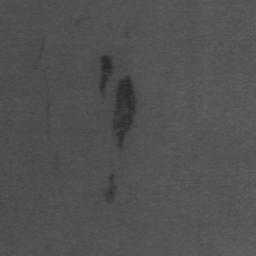Iron scale compression: (112, 76, 136, 151), (99, 57, 113, 101), (105, 174, 115, 205)
